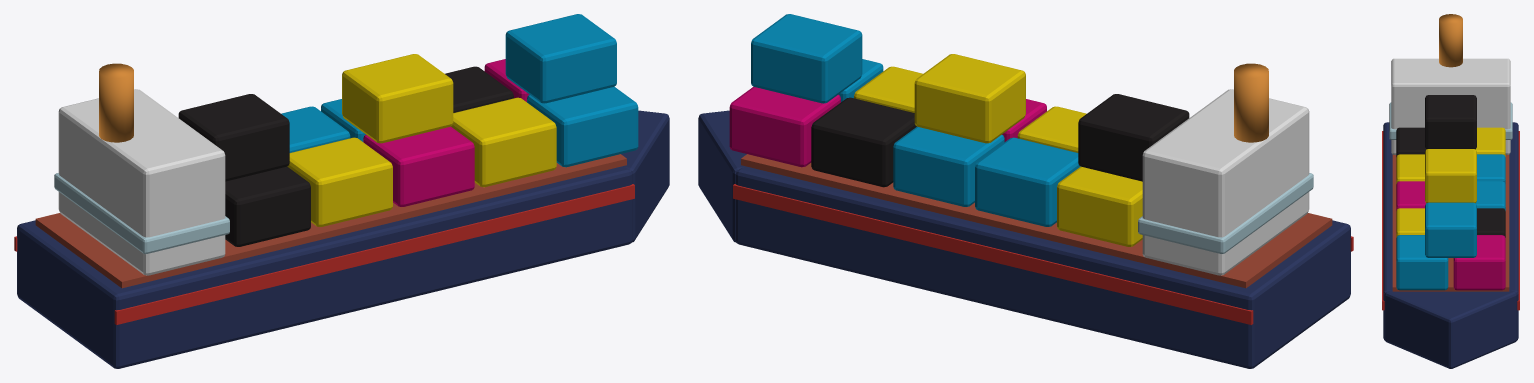
File: boat_cargo.glb
3 renders of one model, left to right at view 1: azimuth 30°, elevation 25°; view 2: azimuth 150°, elevation 25°; view 3: azimuth 270°, elevation 25°, orthographic. The views are drawn at different scales.
Visible parts, largest first — view 1: boat_cargo; view 2: boat_cargo; view 3: boat_cargo.
Boxes of the visible parts, bbox=[...] form: boat_cargo: bbox=[14, 14, 669, 368]; boat_cargo: bbox=[698, 14, 1353, 368]; boat_cargo: bbox=[1382, 14, 1519, 368].
Bounding box in the file's own units: 1.18 × 0.47 × 0.346.
